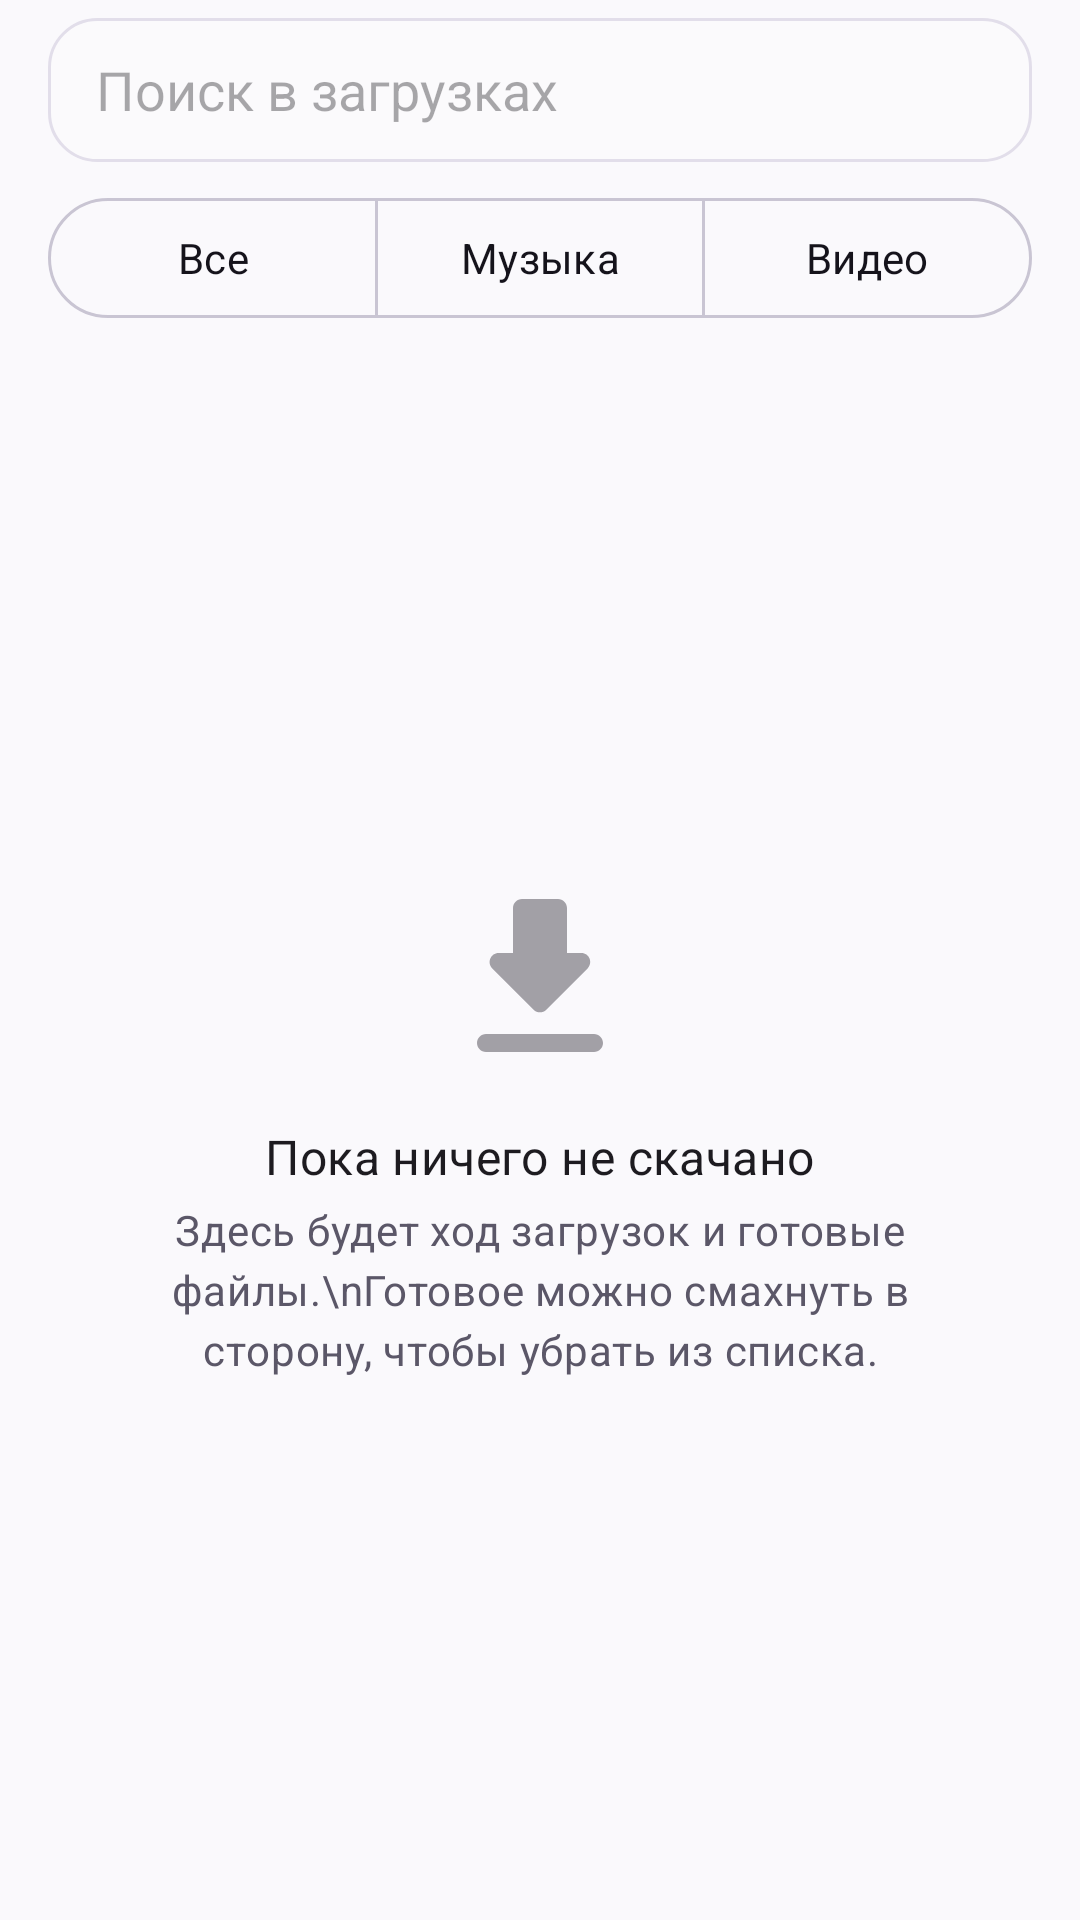

Point at icon controls on the screen. Image size 1080 × 1920, points as (x,y).
download: (540,975)
